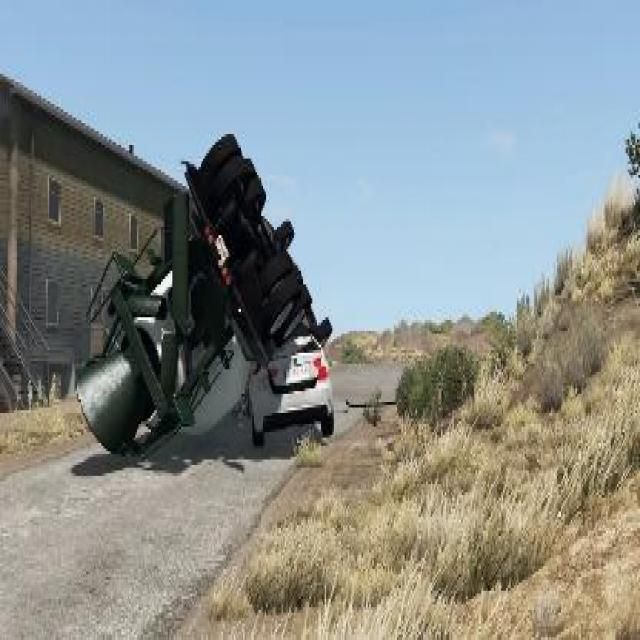accident: (68, 106, 340, 456)
